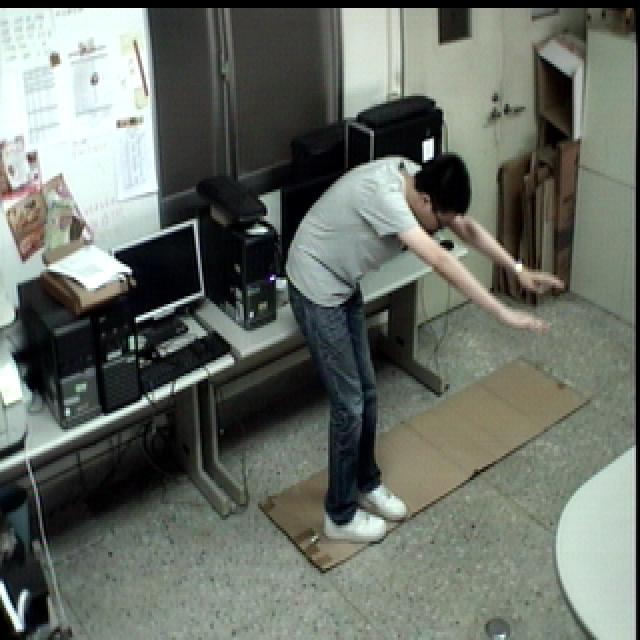bend: (280, 149, 563, 548)
